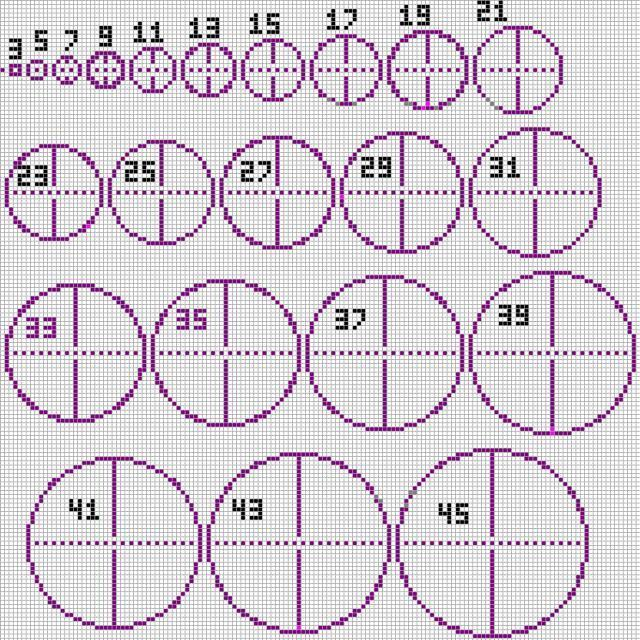Circle: (399, 446, 602, 638), (207, 455, 391, 640), (22, 449, 205, 631), (469, 271, 640, 436), (304, 280, 463, 430), (148, 277, 302, 427), (6, 279, 149, 418), (468, 129, 604, 260), (341, 138, 464, 250), (222, 141, 336, 244), (106, 142, 212, 242), (6, 144, 104, 242), (472, 32, 566, 110), (383, 30, 473, 109), (308, 37, 382, 104), (242, 38, 306, 98), (186, 42, 236, 99), (128, 46, 178, 94), (82, 46, 126, 91), (49, 51, 84, 91), (27, 56, 50, 84), (10, 61, 25, 84)
